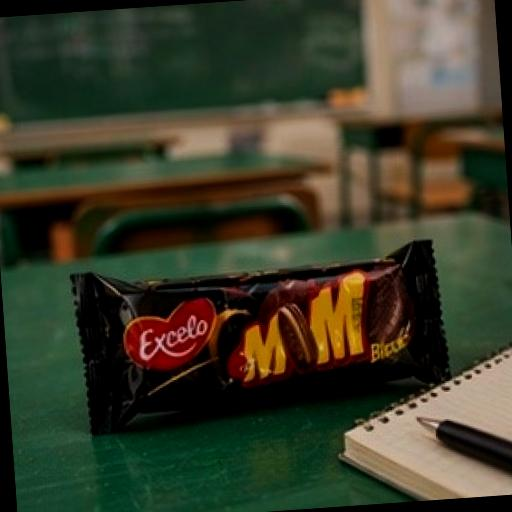MOMO: (28, 182, 508, 476)
